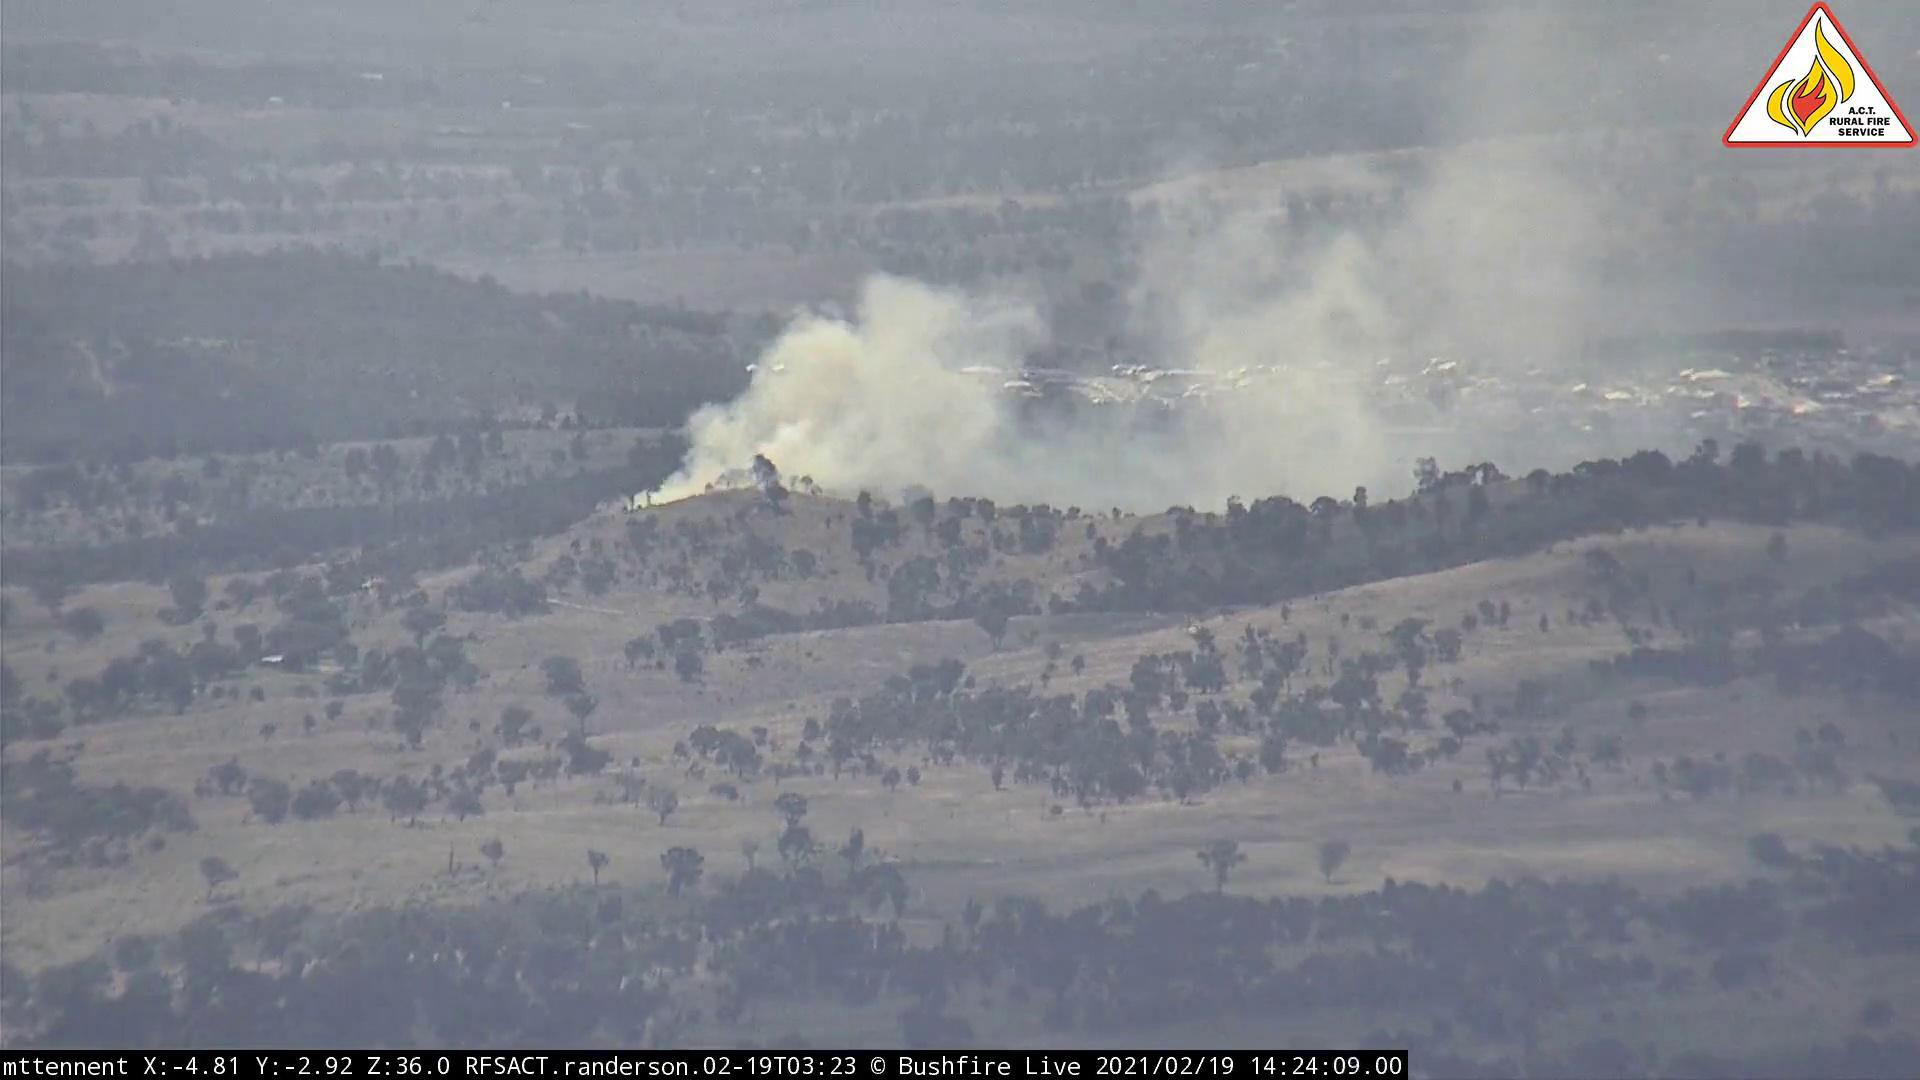Smoke: (611, 32, 1644, 533)
